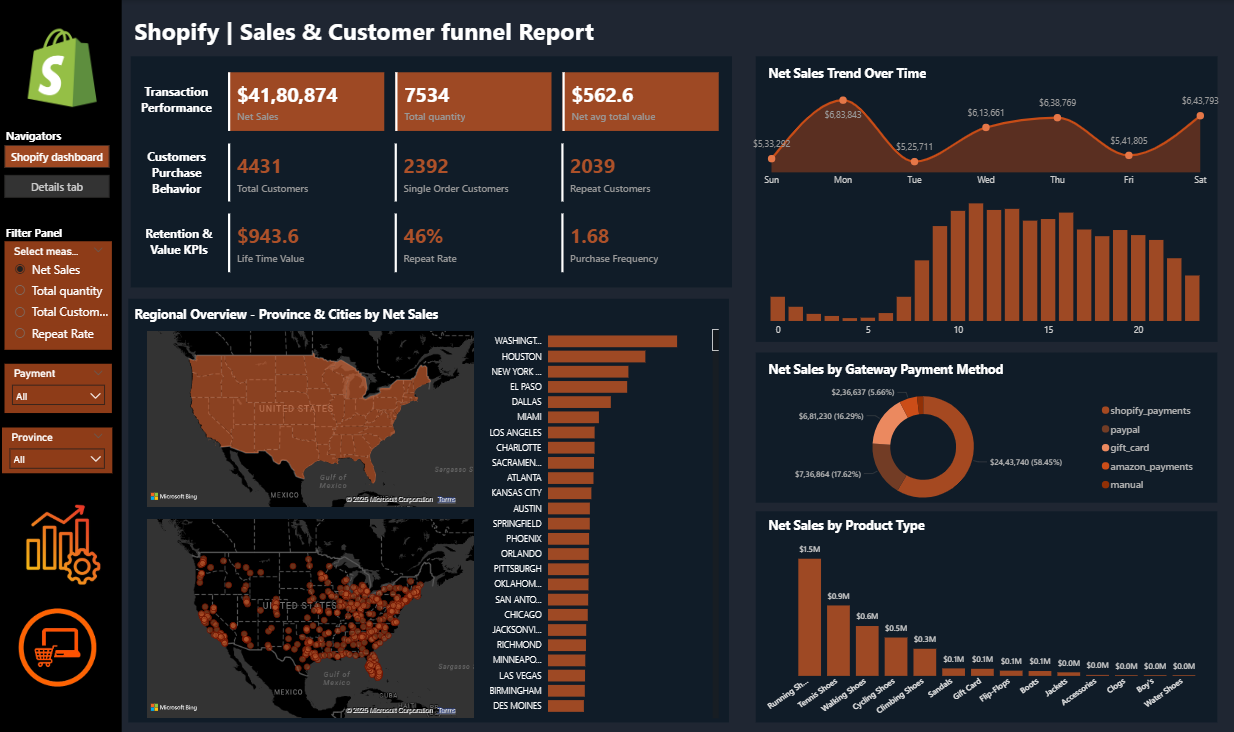

Layout of this report page (visuals, bound fields, positions):
{"tool":"powerbi","page":{"name":"Shopify dashboard","canvas":[1700,1000],"ordinal":0},"visuals":[{"type":"shape","box":[182.3,76.7,819.7,315.3],"z":0},{"type":"shape","box":[0,0,170,1000.5],"z":1000},{"type":"textbox","box":[182.8,15.5,684.5,60.3],"z":2000},{"type":"cardVisual","fields":{"Data":["shopify_sales.Net Sales","shopify_sales.Total quantity","shopify_sales.Net avg total value"]},"box":[310.2,93.7,680,90.3],"z":3000},{"type":"textbox","box":[179.3,108.6,131,62.1],"z":4000},{"type":"cardVisual","fields":{"Data":["shopify_sales.Total Customers","shopify_sales.Single Order Customers","shopify_sales.Repeat Customers"]},"box":[310.5,190.4,678.9,89.5],"z":5000},{"type":"textbox","box":[178.9,197.9,131.6,76.8],"z":6000},{"type":"cardVisual","fields":{"Data":["shopify_sales.Life Time Value","shopify_sales.Repeat Rate","shopify_sales.Purchase Frequency"]},"box":[310.5,286.3,678.9,90.5],"z":7000},{"type":"textbox","box":[182.8,301.7,131,56.9],"z":8000},{"type":"shape","box":[179.3,406.9,819,577.6],"z":9000},{"type":"shape","box":[1035.1,77.2,629.8,389.5],"z":10000},{"type":"filledMap","fields":{"Category":["shopify_sales.Billing Address Province"]},"box":[200,446.4,455.4,250],"z":11000},{"type":"map","fields":{"Category":["shopify_sales.Location"]},"box":[200,701.8,455.4,282.1],"z":12000},{"type":"clusteredBarChart","fields":{"Y":["shopify_sales.Net Sales"],"Category":["shopify_sales.CITY"]},"box":[655.2,436.2,334.5,548.3],"z":13000},{"type":"slicer","fields":{"Values":["Select measures.Select measures"]},"box":[10.3,329.3,146.6,148.3],"z":14000},{"type":"cardVisual","fields":{"Data":["shopify_sales.Map title"]},"box":[170.7,391.4,587.9,63.8],"z":15000},{"type":"areaChart","fields":{"Y":["shopify_sales.Net Sales"],"Category":["shopify_sales.day of the week"]},"box":[1012.1,113.8,672.4,150],"z":16000},{"type":"columnChart","fields":{"Y":["shopify_sales.Net Sales"],"Category":["shopify_sales.hour"]},"box":[1050,246.6,594.8,220.7],"z":17000},{"type":"cardVisual","fields":{"Data":["shopify_sales.Trend title"]},"box":[1034.5,63.8,343.1,58.6],"z":18000},{"type":"shape","box":[1034.5,481,629.3,205],"z":19000},{"type":"donutChart","fields":{"Y":["shopify_sales.Net Sales"],"Category":["shopify_sales.Gateway"]},"box":[1015.5,515.5,629.3,186.2],"z":20000},{"type":"cardVisual","fields":{"Data":["shopify_sales.Gateway title"]},"box":[1034.5,467.2,427.6,63.8],"z":21000},{"type":"shape","box":[1034.5,696.6,629.3,287.9],"z":22000},{"type":"columnChart","fields":{"Y":["shopify_sales.Net Sales"],"Category":["shopify_sales.Product Type"]},"box":[1043.1,722.4,612.1,262.1],"z":23000},{"type":"cardVisual","fields":{"Data":["shopify_sales.Product title"]},"box":[1034.5,679.3,403.4,63.8],"z":24000},{"type":"image","box":[29.3,34.5,120.7,117.2],"z":25000},{"type":"slicer","fields":{"Values":["shopify_sales.Gateway"]},"box":[10.3,496.6,146.6,67.2],"z":26000},{"type":"slicer","fields":{"Values":["shopify_sales.Billing Address Province"]},"box":[6.9,582.8,150,62.1],"z":27000},{"type":"image","box":[27.6,682.8,125.9,119],"z":28000},{"type":"image","box":[13.8,820.7,136.2,122.4],"z":29000},{"type":"pageNavigator","box":[10.3,198.3,143.1,72.4],"z":30000},{"type":"textbox","box":[6.9,170.7,134.5,37.9],"z":31000},{"type":"textbox","box":[6.9,301.7,134.5,37.9],"z":32000}]}

Visuals, with their boxes on the page's 1700x1000 design canvas (x1, y1, x2, y2). These are canvas units, not pixel positions in the 1234x732 screenshot, which may show the page scaled, cropped or inside an application window:
shape: [182, 77, 1002, 392]
shape: [0, 0, 170, 1000]
textbox: [183, 16, 867, 76]
cardVisual - shopify_sales.Net Sales x shopify_sales.Total quantity: [310, 94, 990, 184]
textbox: [179, 109, 310, 171]
cardVisual - shopify_sales.Total Customers x shopify_sales.Single Order Customers: [310, 190, 989, 280]
textbox: [179, 198, 310, 275]
cardVisual - shopify_sales.Life Time Value x shopify_sales.Repeat Rate: [310, 286, 989, 377]
textbox: [183, 302, 314, 359]
shape: [179, 407, 998, 984]
shape: [1035, 77, 1665, 467]
filledMap - shopify_sales.Billing Address Province: [200, 446, 655, 696]
map - shopify_sales.Location: [200, 702, 655, 984]
clusteredBarChart - shopify_sales.Net Sales x shopify_sales.CITY: [655, 436, 990, 984]
slicer - Select measures.Select measures: [10, 329, 157, 478]
cardVisual - shopify_sales.Map title: [171, 391, 759, 455]
areaChart - shopify_sales.Net Sales x shopify_sales.day of the week: [1012, 114, 1684, 264]
columnChart - shopify_sales.Net Sales x shopify_sales.hour: [1050, 247, 1645, 467]
cardVisual - shopify_sales.Trend title: [1034, 64, 1378, 122]
shape: [1034, 481, 1664, 686]
donutChart - shopify_sales.Net Sales x shopify_sales.Gateway: [1016, 516, 1645, 702]
cardVisual - shopify_sales.Gateway title: [1034, 467, 1462, 531]
shape: [1034, 697, 1664, 984]
columnChart - shopify_sales.Net Sales x shopify_sales.Product Type: [1043, 722, 1655, 984]
cardVisual - shopify_sales.Product title: [1034, 679, 1438, 743]
image: [29, 34, 150, 152]
slicer - shopify_sales.Gateway: [10, 497, 157, 564]
slicer - shopify_sales.Billing Address Province: [7, 583, 157, 645]
image: [28, 683, 154, 802]
image: [14, 821, 150, 943]
pageNavigator: [10, 198, 153, 271]
textbox: [7, 171, 141, 209]
textbox: [7, 302, 141, 340]
